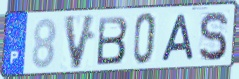0: (133, 11, 159, 67)
8: (30, 16, 59, 71)
A: (159, 13, 196, 64)
B: (95, 15, 129, 67)
S: (197, 10, 229, 64)
V: (62, 13, 98, 72)
